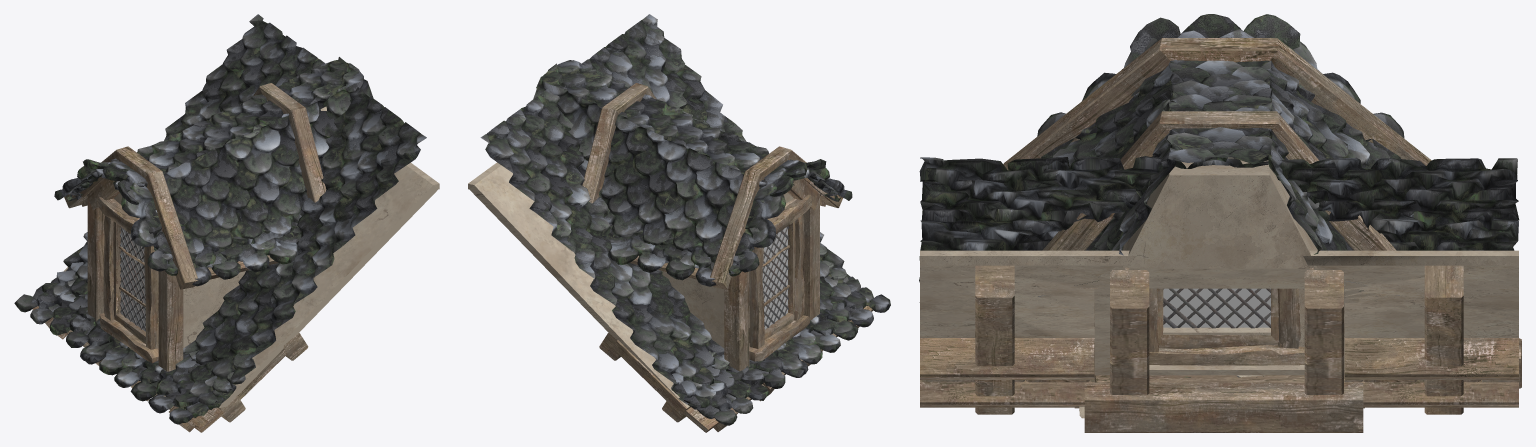
The model's file is SM_Roof_B_01.fbx.
3 views of the same model, side by side, from view 1: azimuth 30°, elevation 25°; view 2: azimuth 150°, elevation 25°; view 3: azimuth 270°, elevation 25° (orthographic). The views are drawn at different scales.
Parts seen in each view (by area): view 1: SM_Roof_B_01_LOD0; view 2: SM_Roof_B_01_LOD0; view 3: SM_Roof_B_01_LOD0.
Boxes of the visible parts, x1=… form: SM_Roof_B_01_LOD0: x1=14, y1=14, x2=439, y2=432; SM_Roof_B_01_LOD0: x1=468, y1=14, x2=890, y2=432; SM_Roof_B_01_LOD0: x1=919, y1=14, x2=1521, y2=432.
Bounding box in the file's own units: 379 × 403 × 339.
